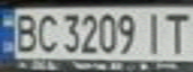0: (97, 10, 118, 55)
2: (78, 10, 100, 55)
3: (57, 10, 81, 54)
9: (115, 10, 142, 55)
B: (9, 10, 42, 53)
C: (33, 10, 60, 54)
I: (139, 9, 169, 55)
T: (160, 8, 193, 55)
